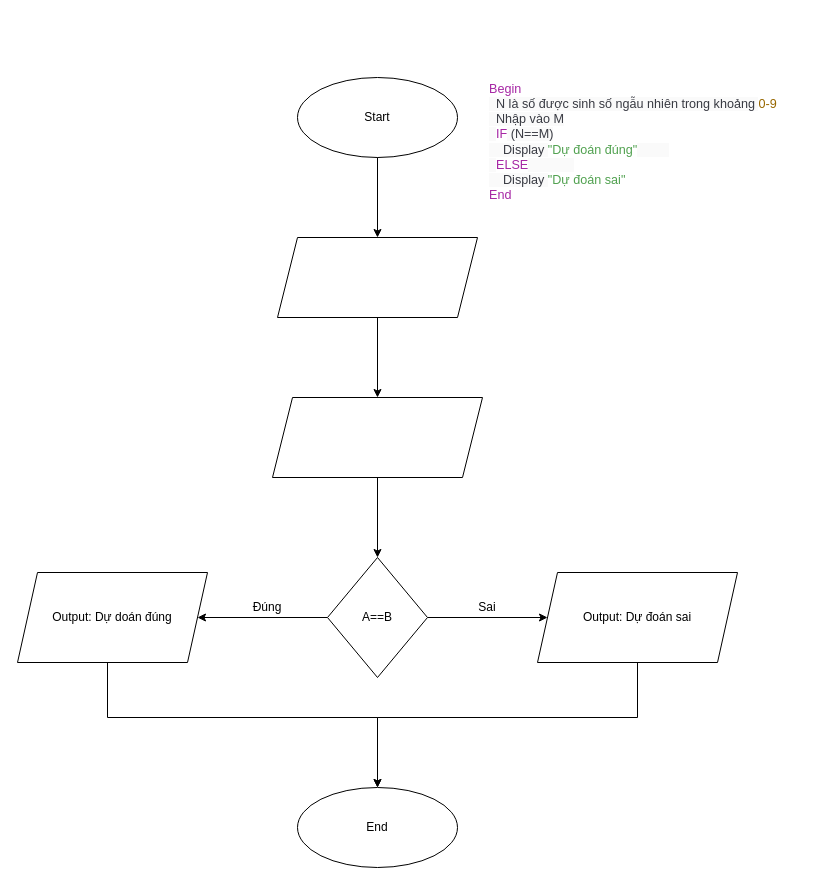
This 825x885 diagram has some shape labels left out. The box of each missing label's shape, as (x1, y1, x2, y2) in pixels:
Input A ngẫu nhiên từ 0 -9: (276, 236, 478, 318)
Input B: (272, 396, 482, 478)
